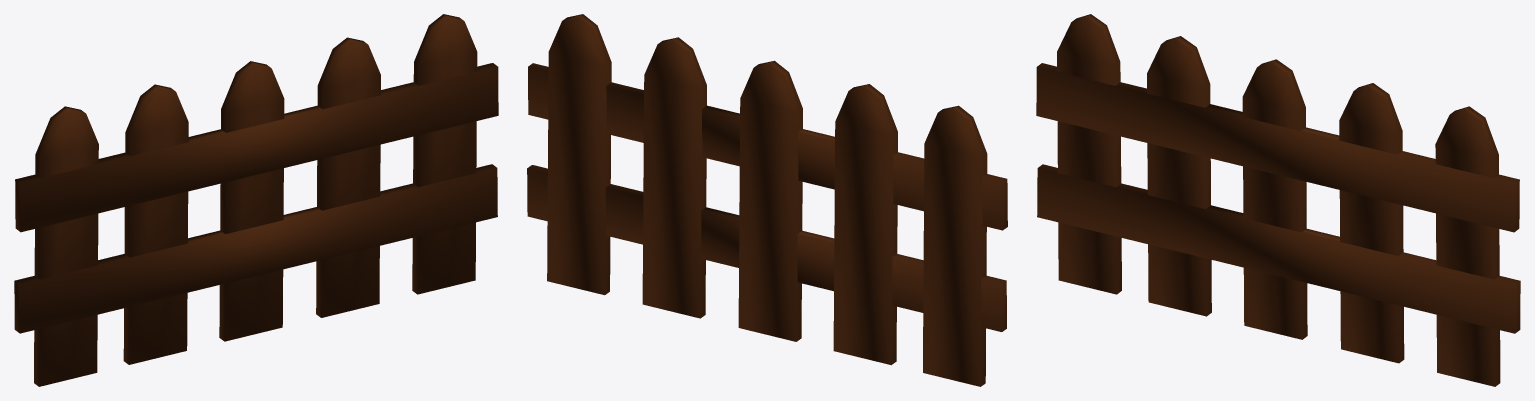
Rendered from çit.fbx.
3 renders of one model, left to right at view 1: azimuth 30°, elevation 25°; view 2: azimuth 150°, elevation 25°; view 3: azimuth 330°, elevation 25°, orthographic.
Parts seen in each view (by area): view 1: Uçak; view 2: Uçak; view 3: Uçak.
Part boxes in pixels (x1,y1,x2,y2): Uçak: [14, 14, 498, 386]; Uçak: [527, 14, 1007, 386]; Uçak: [1036, 14, 1520, 386].
Size of the model in its own units: 521 by 283 by 13.56.
